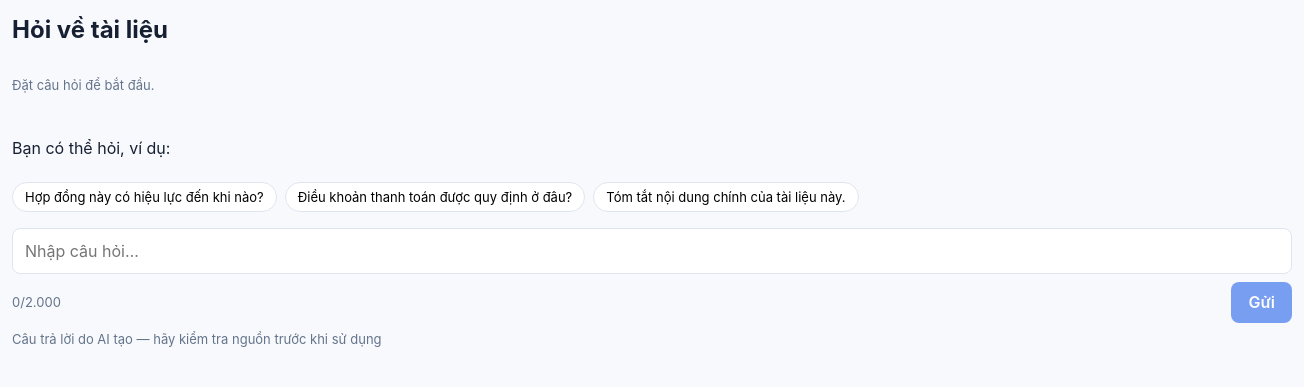
Test: ChatPage › ANSWER_INTERRUPTED sau khi đã có delta → incomplete: nội dung mờ, ẩn thẻ nguồn (IR-01)
The width and height of the screenshot is (1304, 387).
In the text box with test id "question-input": (652,251) [12,228,1292,274], type "Câu hỏi sẽ bị gián đoạn giữa chừng"
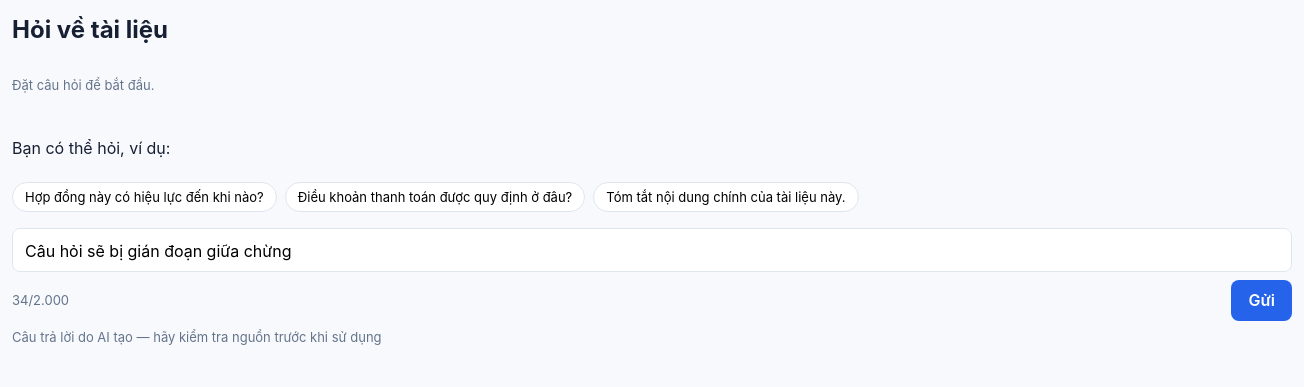
Click the button with test id "send-button": (1262,300) [1232,280,1292,321]
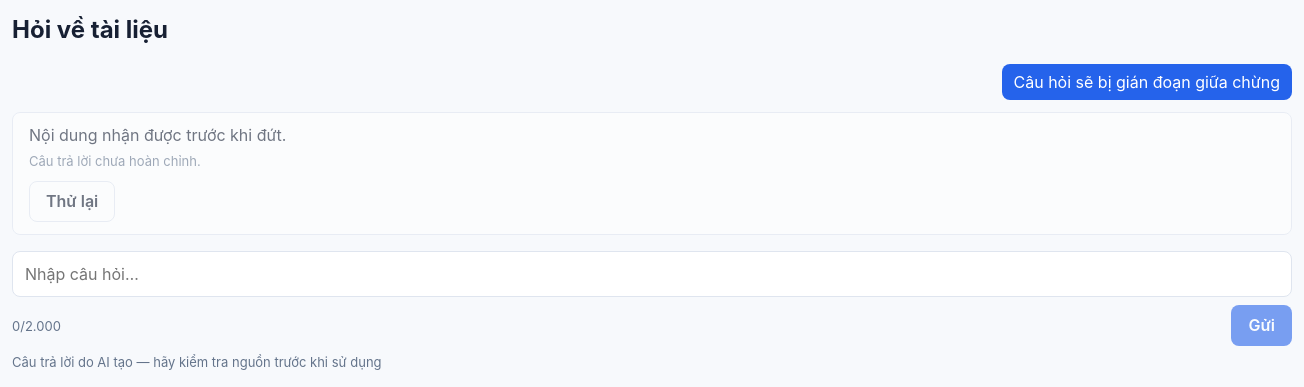
Expected: the text "Câu trả lời chưa hoàn chỉnh." is shown, [29,153,201,169]
Expected: the button with test id "retry-button" is shown, [29,181,115,222]
